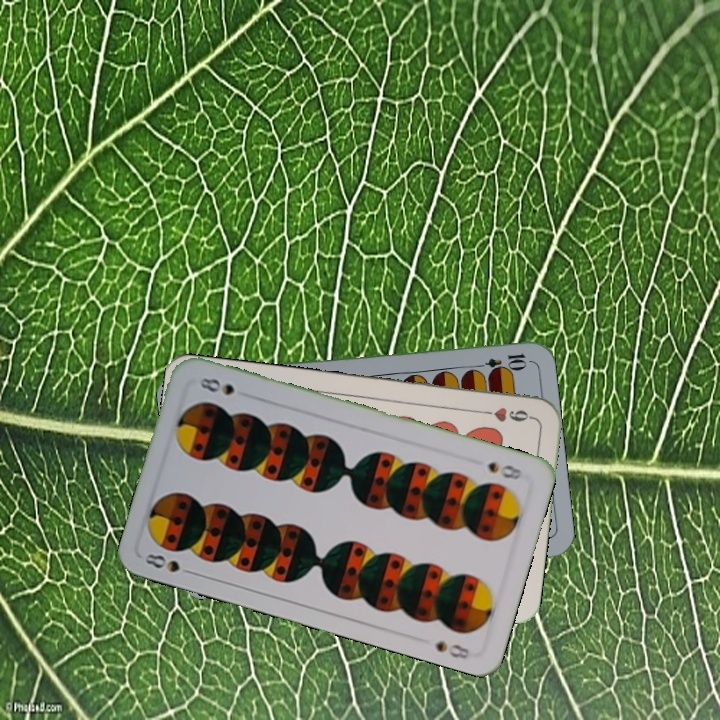E10: (470, 349, 529, 373)
H9: (477, 404, 536, 425)
S8: (141, 549, 198, 578), (484, 458, 525, 483)
